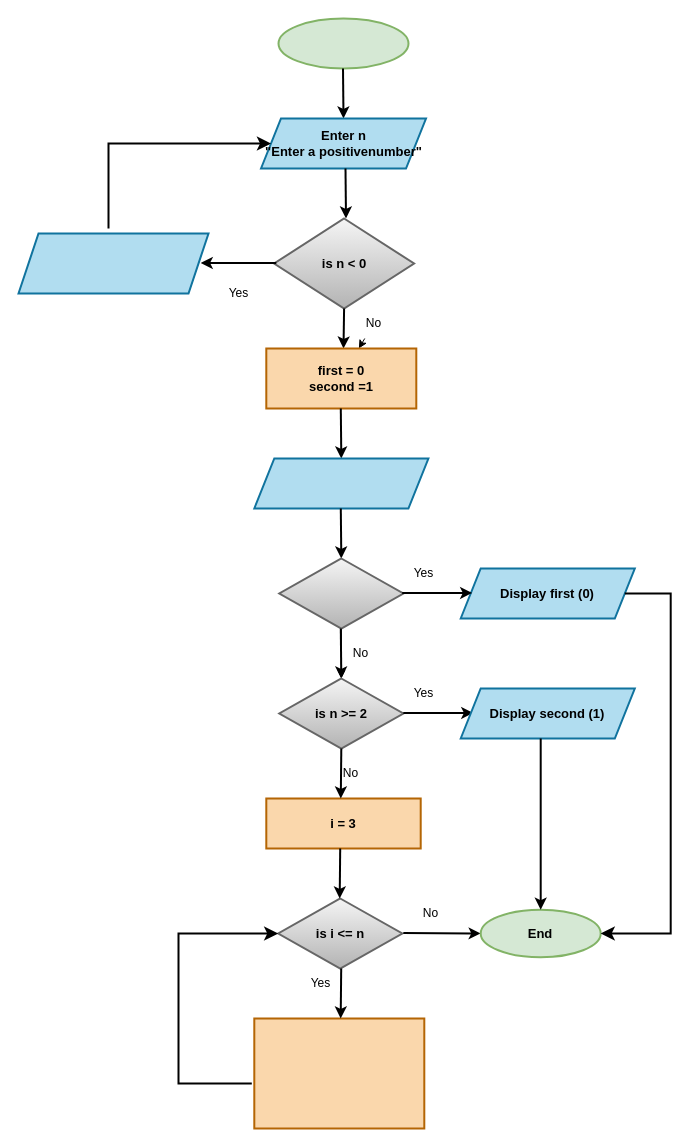
This 699x1146 diagram has some shape labels left out. Each missing label, with the centre of its shape:
"Display Fibanocci" goes at (x=341, y=483).
"Display number has must Positive" goes at (x=113, y=263).
"is n >= 1" goes at (x=341, y=593).
"next = first + second Display next first = second second = next i = i + 1" goes at (x=339, y=1073).
"Start" goes at (x=343, y=43).
